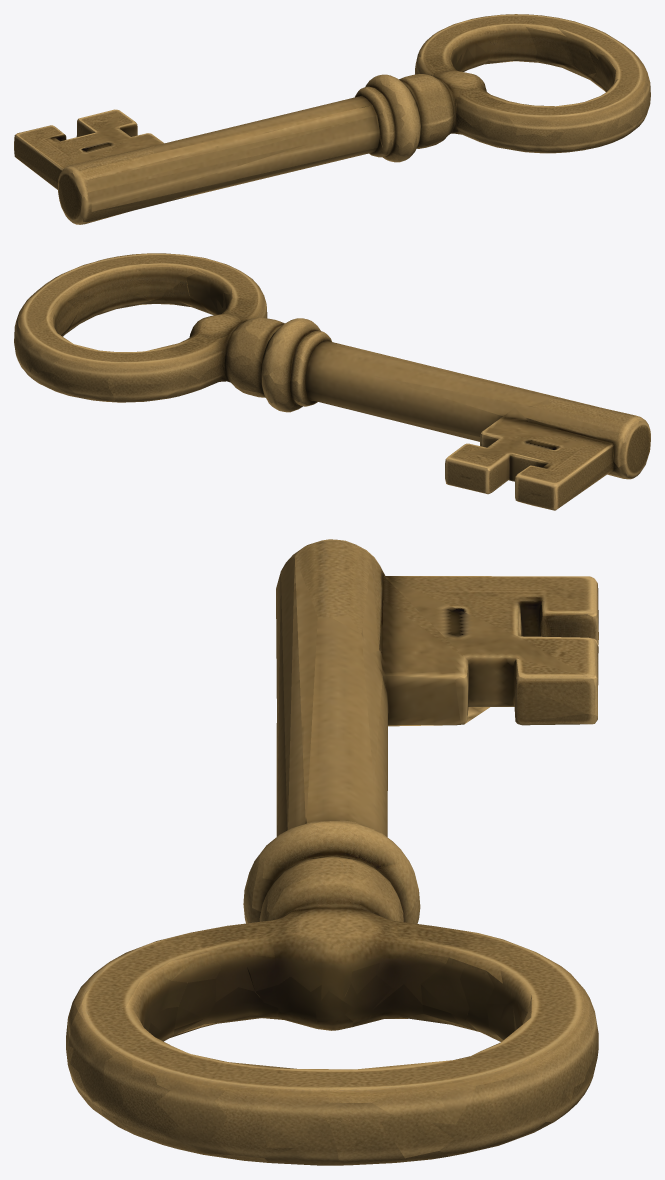
The model's file is key.glb.
3 renders of one model, top to bottom at view 1: azimuth 30°, elevation 25°; view 2: azimuth 150°, elevation 25°; view 3: azimuth 270°, elevation 25°, orthographic. The views are drawn at different scales.
Visible parts, largest first — view 1: output_unwrapped; view 2: output_unwrapped; view 3: output_unwrapped.
Part boxes in pixels (x1,y1,x2,y2): output_unwrapped: [14, 14, 650, 224]; output_unwrapped: [14, 253, 650, 510]; output_unwrapped: [66, 539, 598, 1165].
Size of the model in its own units: 1.9 by 0.2593 by 0.7841.
1 material, 1 textured.
